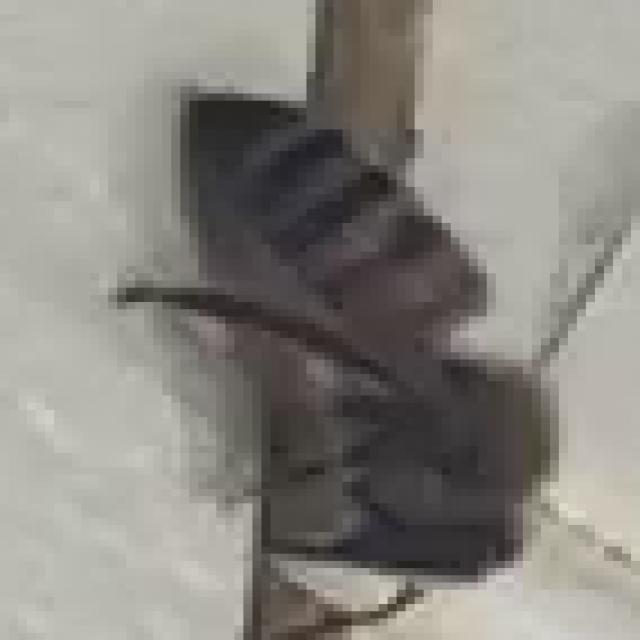honeybee: (142, 73, 588, 604)
